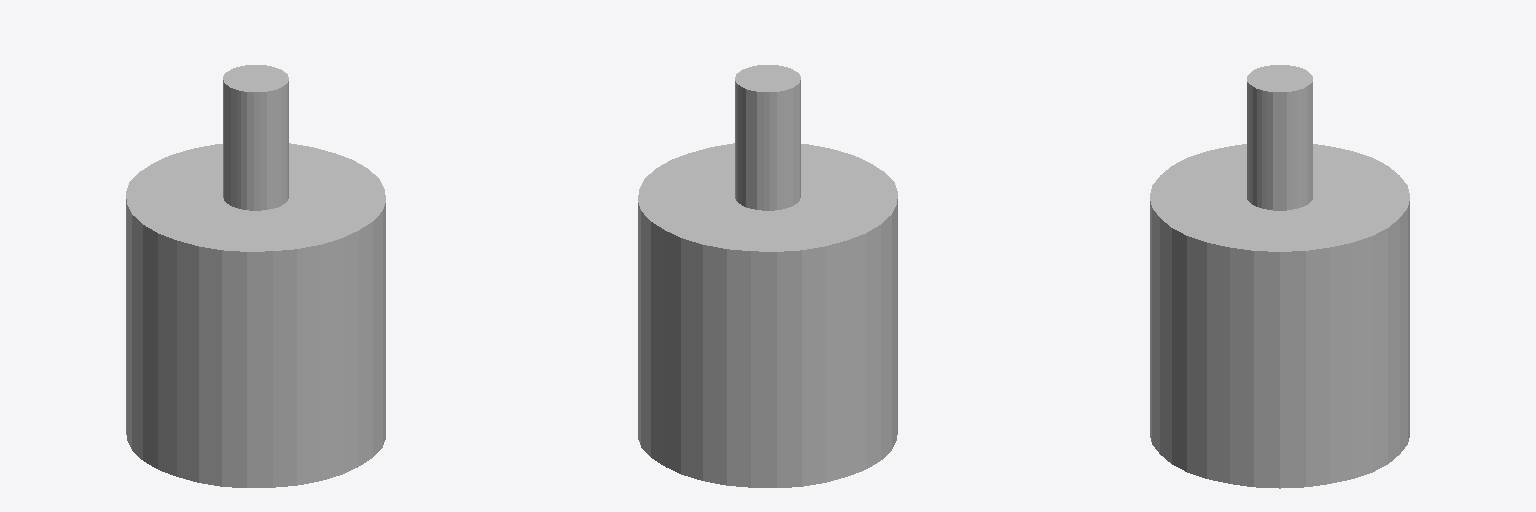
The model's file is spire.obj.
3 views of the same model, side by side, from view 1: azimuth 30°, elevation 25°; view 2: azimuth 150°, elevation 25°; view 3: azimuth 270°, elevation 25° (orthographic).
Bounding box in the file's own units: 0.2 × 0.3 × 0.2.